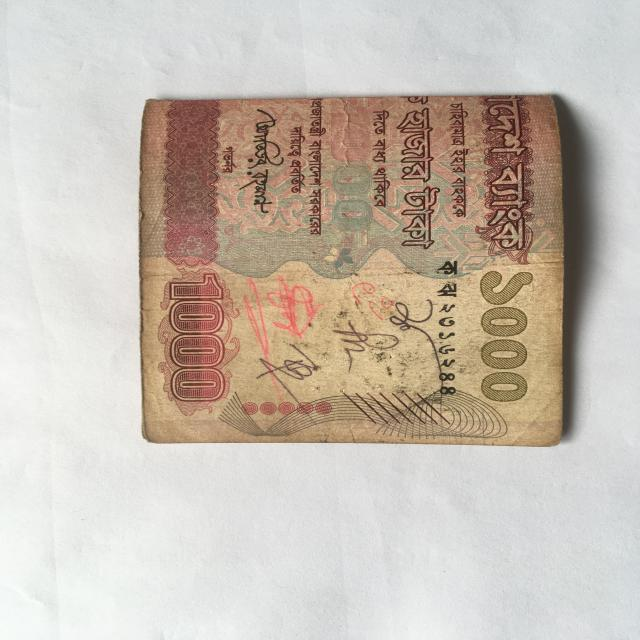Taka: (131, 84, 567, 453)
